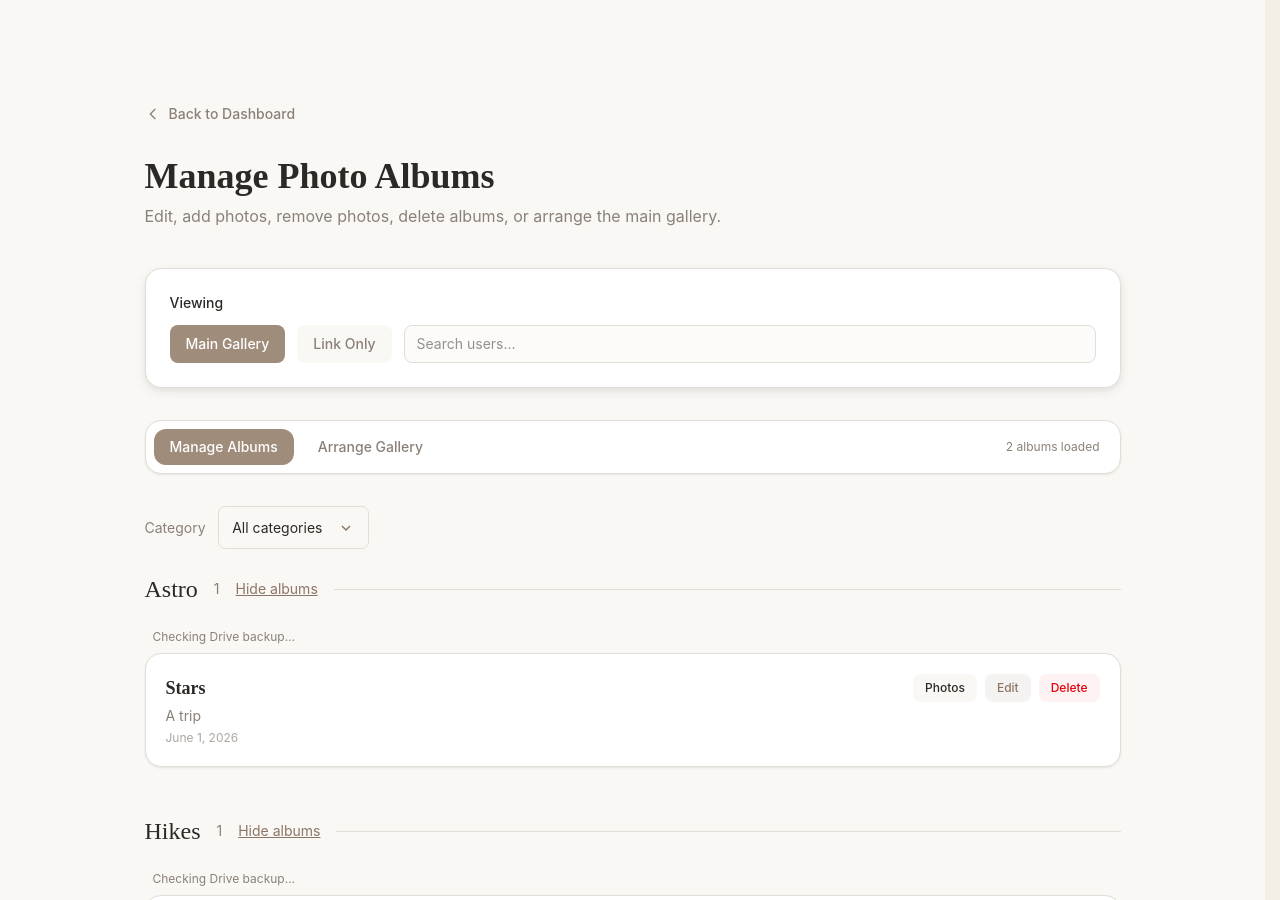
ManageAlbums › persists category order independently from album order
Expected: the headings read "Astro", "Hikes", in this order, left=144, top=573, right=198, bottom=605; left=144, top=815, right=200, bottom=847
Click the button "Arrange Gallery". click: x=370, y=447
box: left=302, top=429, right=439, bottom=465
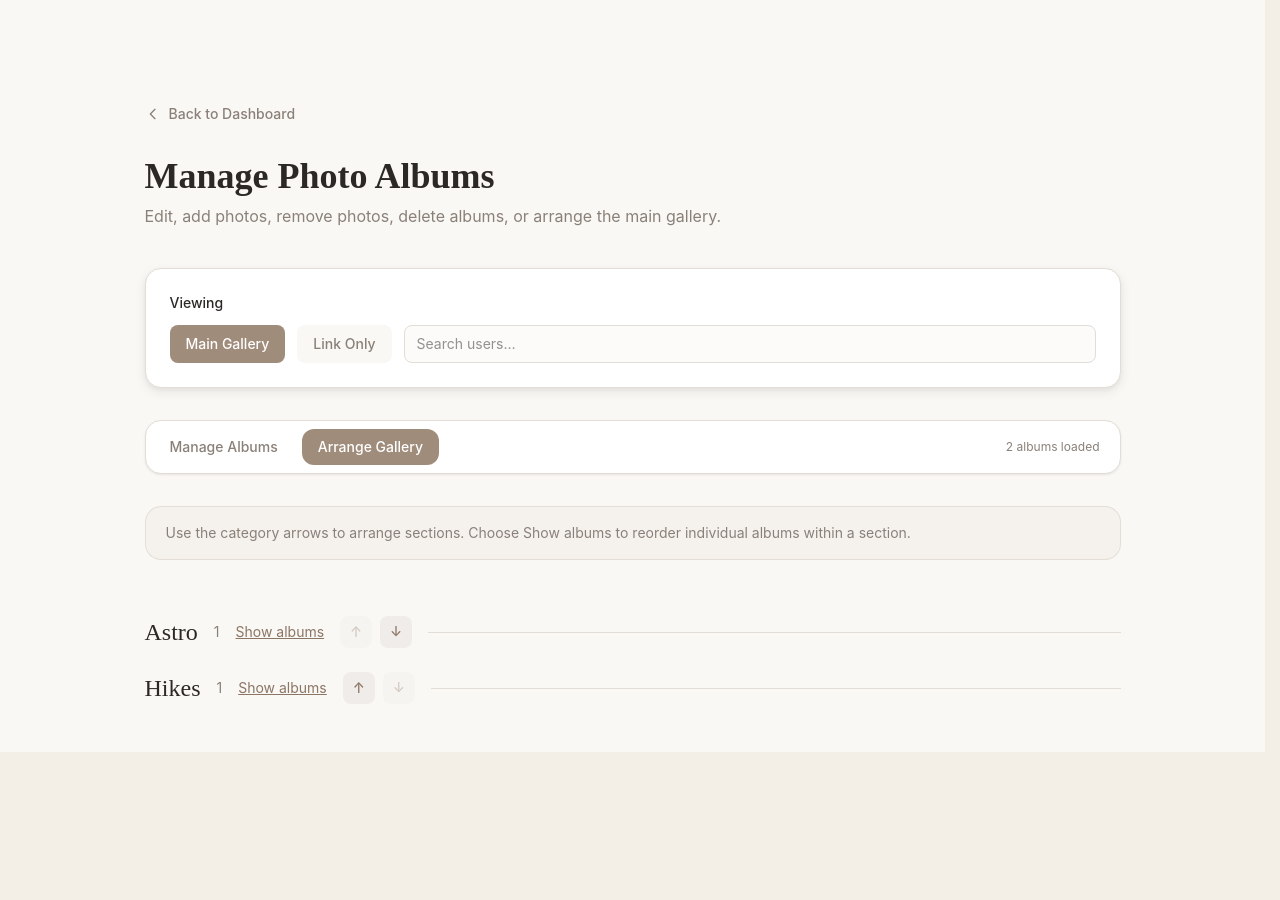
Result: no the heading "Stars" are shown
Result: the button with aria-label "Expand Hikes" is collapsed at left=238, top=678, right=327, bottom=698
Click the button named "Move Hikes category earlier". click: x=359, y=688
box: left=343, top=672, right=375, bottom=704
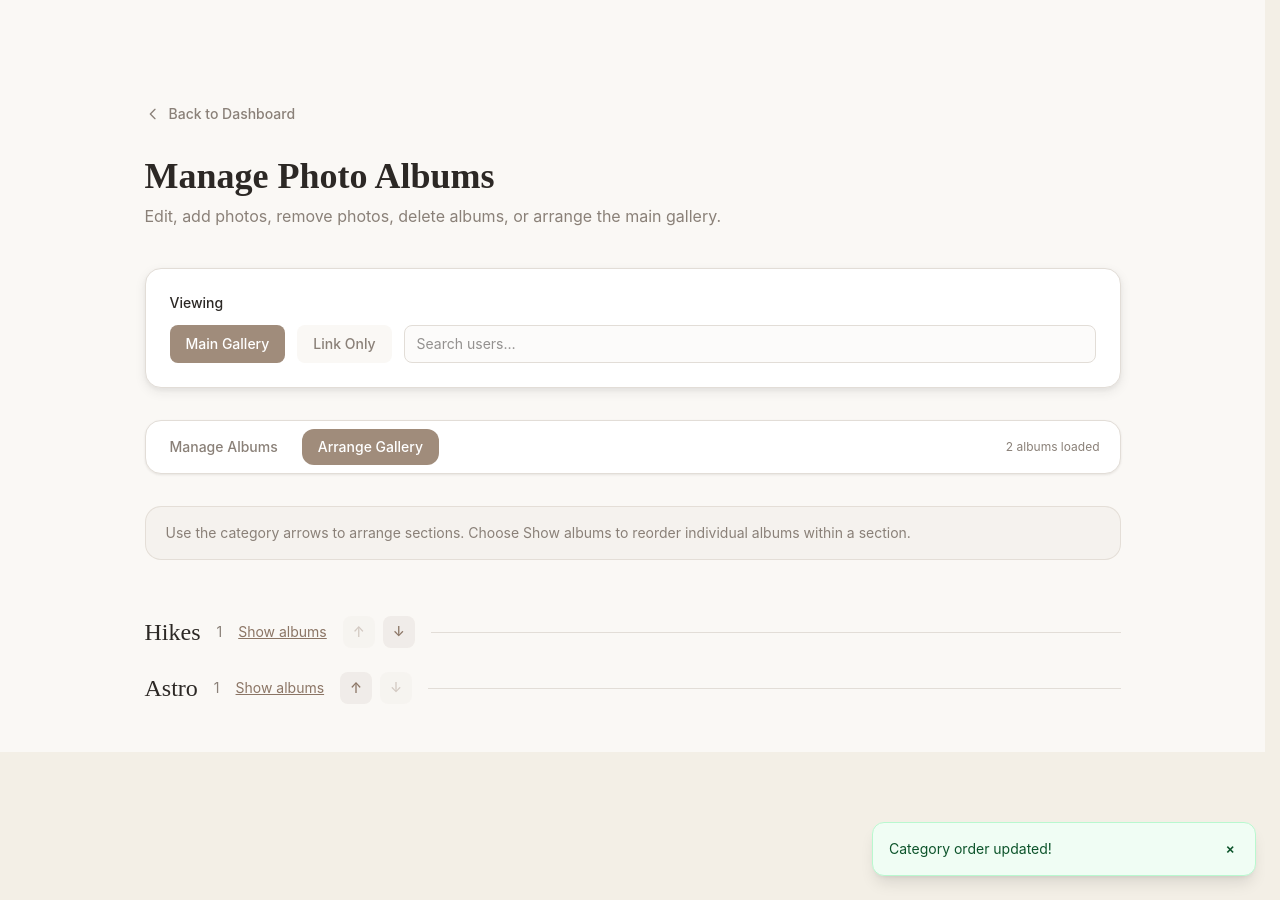
Result: the headings read "Hikes", "Astro", in this order at left=144, top=616, right=200, bottom=648; left=144, top=672, right=198, bottom=704
Click the button with aria-label "Expand Hikes". click: x=282, y=632
box: left=238, top=622, right=327, bottom=642
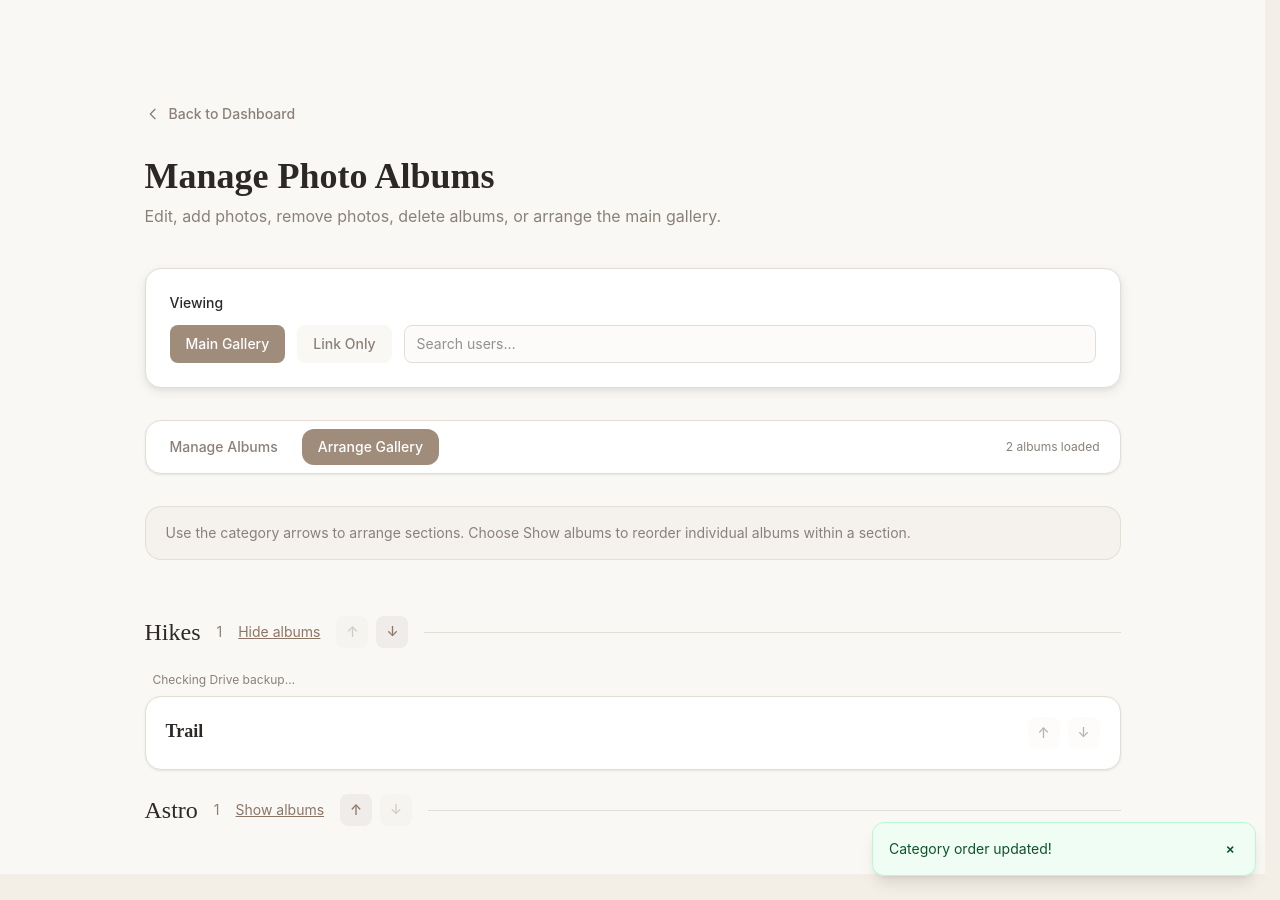
Expected: the heading "Stars" is not shown
Result: the heading "Trail" is shown at left=166, top=717, right=203, bottom=745
Click the button with aria-label "Collapse Hikes". click: x=279, y=632
box: left=238, top=622, right=320, bottom=642
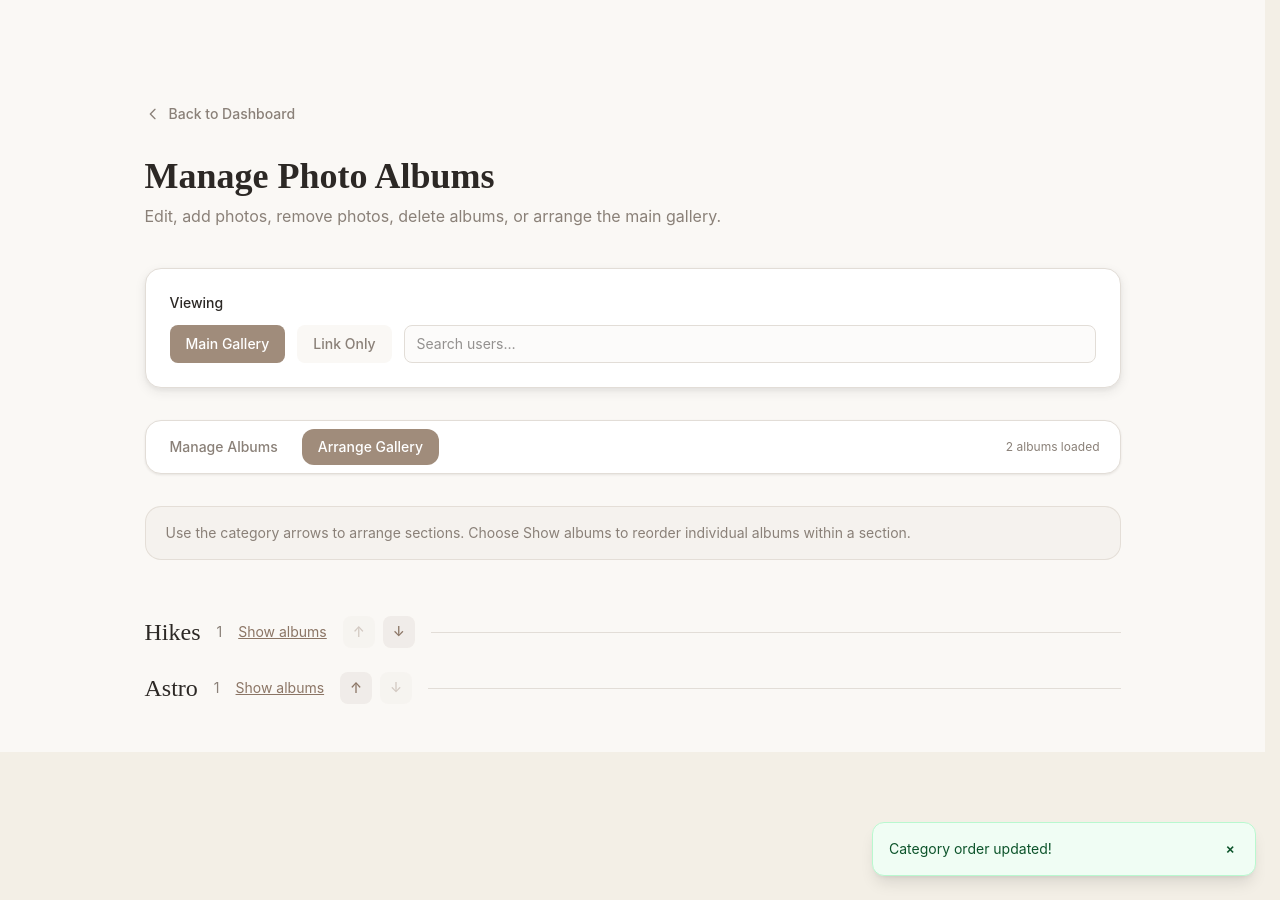
Result: the heading "Trail" is gone
